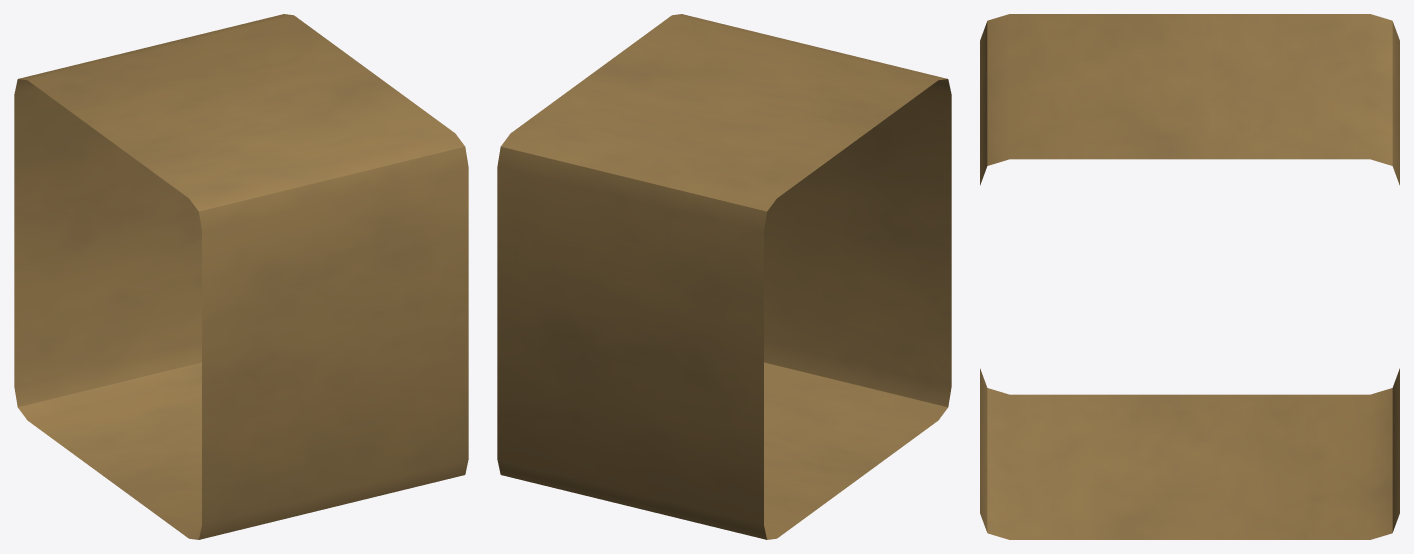
File: Platform Small MID EXT.fbx
3 renders of one model, left to right at view 1: azimuth 30°, elevation 25°; view 2: azimuth 150°, elevation 25°; view 3: azimuth 270°, elevation 25°, orthographic. The views are drawn at different scales.
Parts seen in each view (by area): view 1: Platform Small Mid EXT; view 2: Platform Small Mid EXT; view 3: Platform Small Mid EXT.
Part boxes in pixels (x1,y1,x2,y2): Platform Small Mid EXT: [14, 14, 468, 539]; Platform Small Mid EXT: [497, 14, 951, 539]; Platform Small Mid EXT: [980, 14, 1399, 539].
Size of the model in its own units: 20.49 by 25 by 25.
